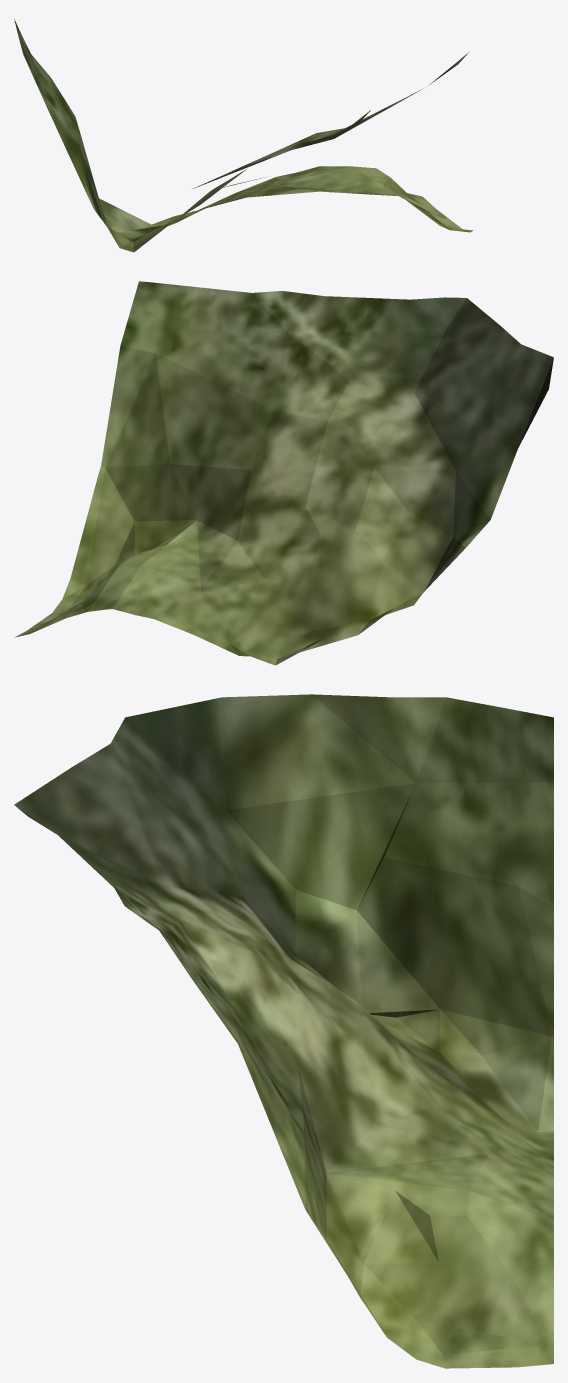
The picture shows the model from 3 angles, top to bottom: view 1: azimuth 30°, elevation 25°; view 2: azimuth 150°, elevation 25°; view 3: azimuth 270°, elevation 25°; orthographic projection. The views are drawn at different scales.
Bounding box in the file's own units: 1.57 × 0.9554 × 1.23.
Materials: 1 (1 with a texture image).
